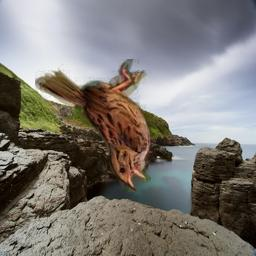Sparrow: (35, 59, 151, 192)
